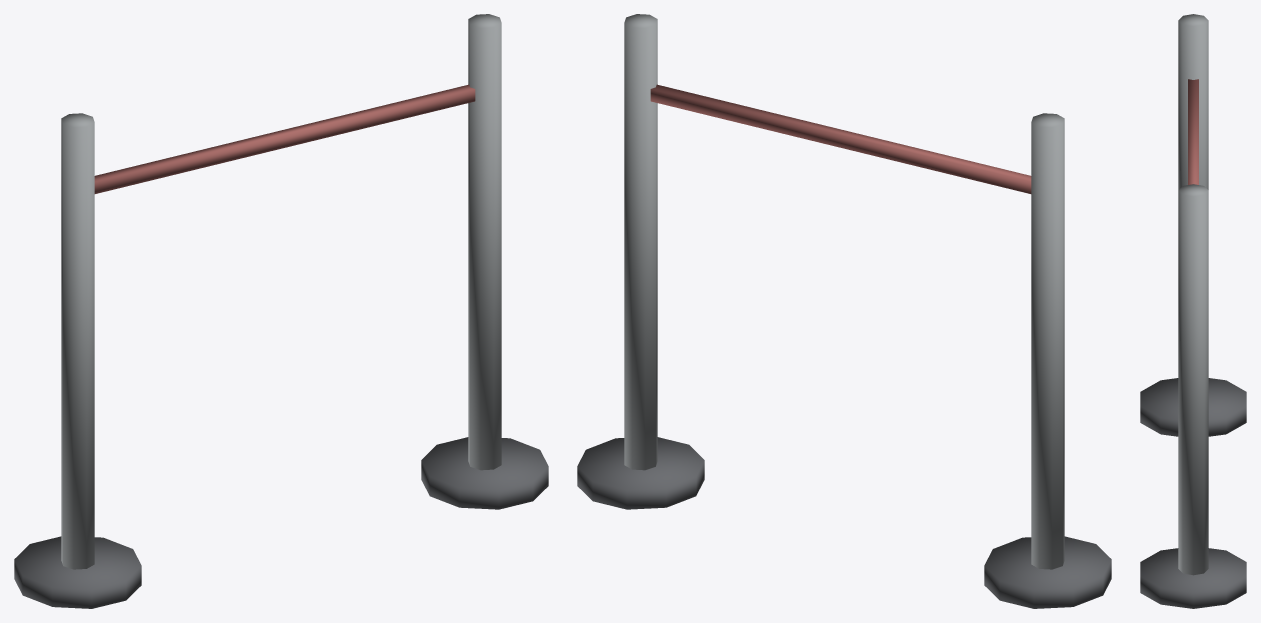
Rendered from museum_rope_barrier__compact.glb.
The picture shows the model from 3 angles, left to right: view 1: azimuth 30°, elevation 25°; view 2: azimuth 150°, elevation 25°; view 3: azimuth 270°, elevation 25°; orthographic projection. The views are drawn at different scales.
Parts seen in each view (by area): view 1: world; view 2: world; view 3: world.
Boxes of the visible parts, x1,y1,x2,y2 form: world: [14, 14, 548, 608]; world: [577, 14, 1111, 608]; world: [1140, 14, 1246, 608].
Bounding box in the file's own units: 1.02 × 0.8742 × 0.2127.
